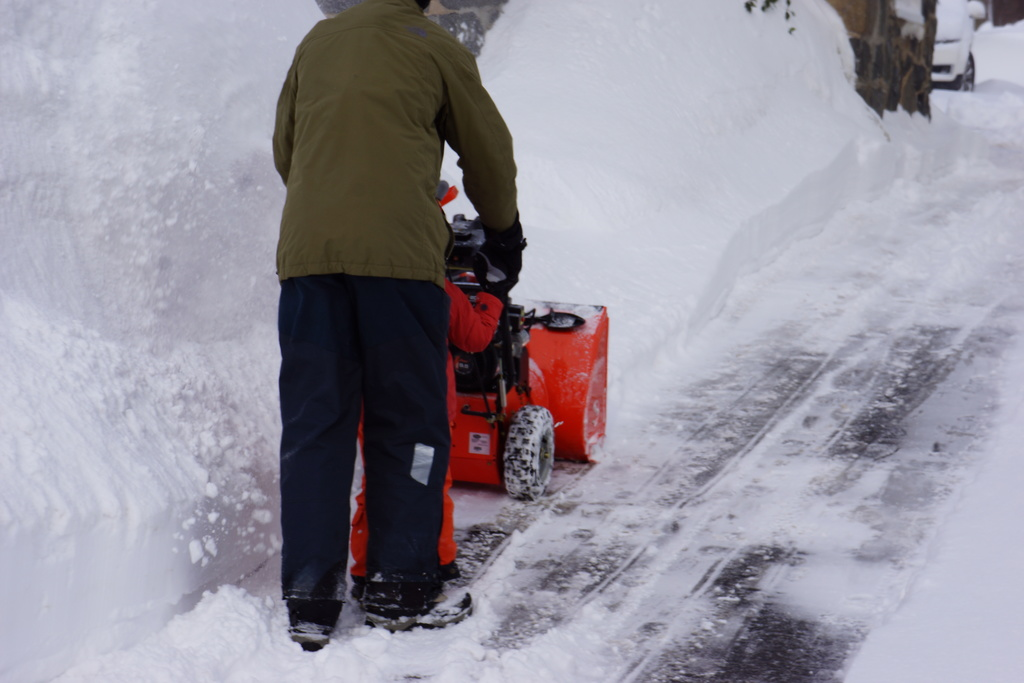Person: (268, 0, 528, 649)
